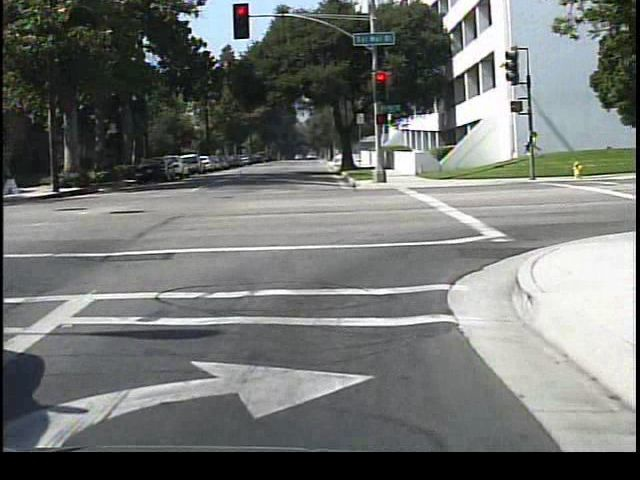person: (516, 127, 540, 175)
